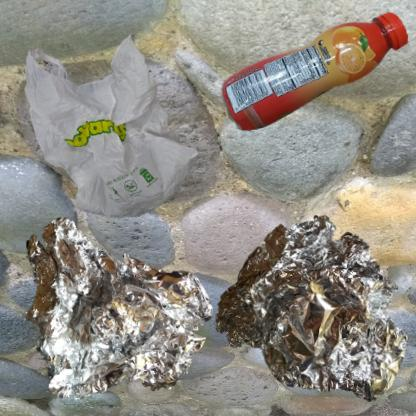aluminio: (10, 213, 223, 416), (213, 213, 409, 404)
bolsa: (10, 10, 228, 259)
botella: (213, 10, 416, 142)
